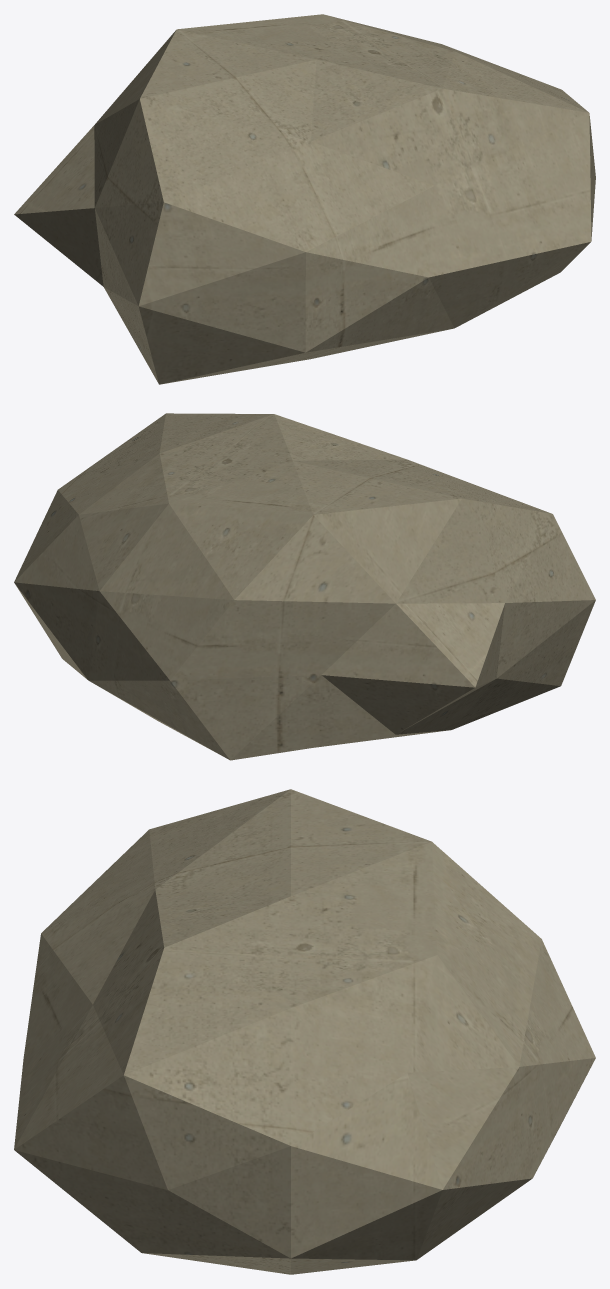
The model's file is FracturedStone.fbx.
3 renders of one model, top to bottom at view 1: azimuth 30°, elevation 25°; view 2: azimuth 150°, elevation 25°; view 3: azimuth 270°, elevation 25°, orthographic. The views are drawn at different scales.
Visible parts, largest first — view 1: FracturedStone; view 2: FracturedStone; view 3: FracturedStone.
Boxes of the visible parts, x1,y1,x2,y2 form: FracturedStone: [14, 14, 595, 384]; FracturedStone: [14, 413, 595, 760]; FracturedStone: [14, 789, 595, 1274].
Bounding box in the file's own units: 79.38 × 37.71 × 67.59.
